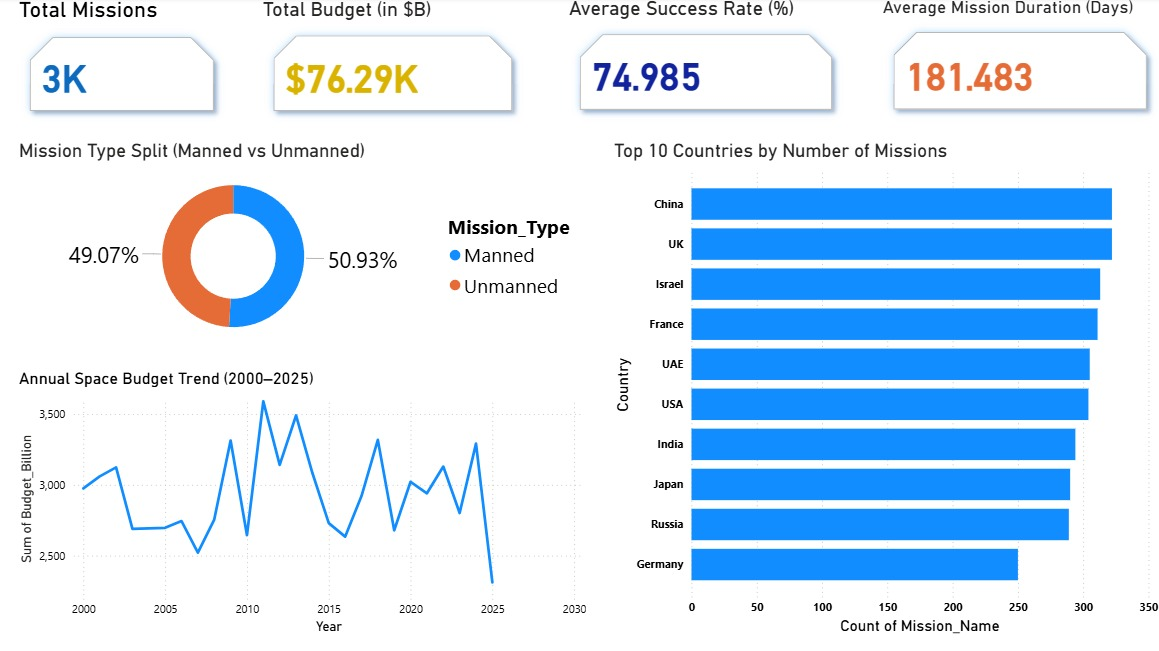

This screenshot's page, from the dashboard's own definition file:
{"tool":"powerbi","page":{"name":"Page 1","canvas":[1280,720],"ordinal":0},"visuals":[{"type":"cardVisual","title":"Total Missions","fields":{"Data":["CountNonNull(space_missions missions (2).Mission_Name)"]},"box":[19.2,0,236,142.7],"z":0},{"type":"cardVisual","title":"Total Budget (in $B)","fields":{"Data":["Sum(space_missions missions (2).Budget_Billion)"]},"box":[286.8,1.4,296.4,141.3],"z":1000},{"type":"cardVisual","title":"Average Success Rate (%)","fields":{"Data":["Avg(space_missions missions (2).Success_Rate)"]},"box":[623,0,311.5,141.3],"z":2000},{"type":"cardVisual","title":"Average Mission Duration (Days)","fields":{"Data":["Avg(space_missions missions (2).Duration_Days)"]},"box":[967.4,0,312.9,141.3],"z":3000},{"type":"clusteredBarChart","title":"Top 10 Countries by Number of Missions","fields":{"Category":["space_missions missions (2).Country"],"Y":["CountNonNull(space_missions missions (2).Mission_Name)"]},"box":[672.4,156.4,607.9,547.5],"z":4000},{"type":"donutChart","title":"Mission Type Split (Manned vs Unmanned)","fields":{"Category":["space_missions missions (2).Mission_Type"],"Y":["CountNonNull(space_missions missions (2).Mission_Name)"]},"box":[19.2,156.4,632.6,233.3],"z":5000},{"type":"lineChart","title":"Annual Space Budget Trend (2000–2025)","fields":{"Category":["space_missions missions (2).Year"],"Y":["Sum(space_missions missions (2).Budget_Billion)"]},"box":[19.2,407.5,632.6,296.4],"z":6000}]}

Visuals, with their boxes in screenshot pixels (x1, y1, x2, y2), scaled from the page's 1280x720 canvas onto the 1159x651 screenshot:
"Total Missions" cardVisual: bbox=[17, 0, 231, 129]
"Total Budget (in $B)" cardVisual: bbox=[260, 1, 528, 129]
"Average Success Rate (%)" cardVisual: bbox=[564, 0, 846, 128]
"Average Mission Duration (Days)" cardVisual: bbox=[876, 0, 1158, 128]
"Top 10 Countries by Number of Missions" clusteredBarChart: bbox=[609, 141, 1158, 636]
"Mission Type Split (Manned vs Unmanned)" donutChart: bbox=[17, 141, 590, 352]
"Annual Space Budget Trend (2000–2025)" lineChart: bbox=[17, 368, 590, 636]
